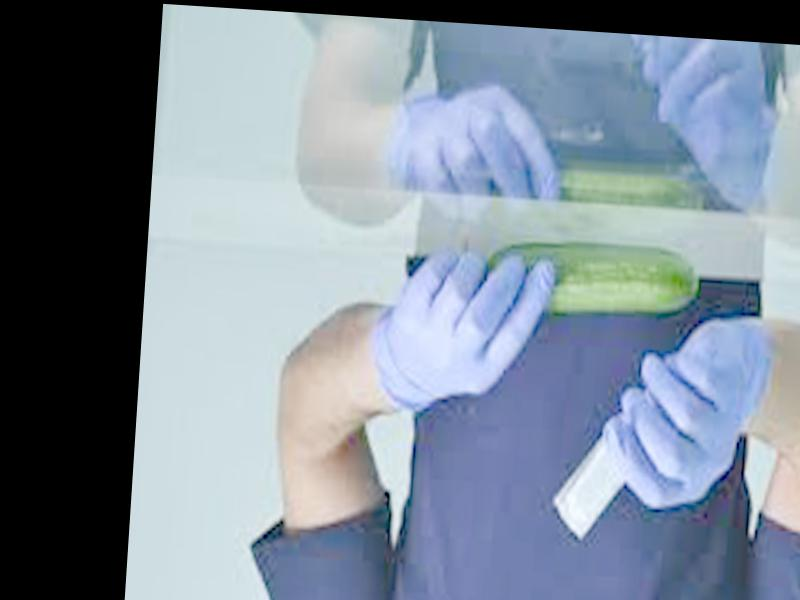Cucumber: (486, 235, 700, 320)
